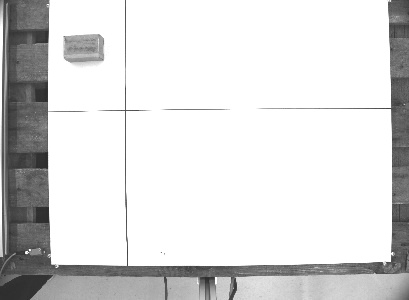b1: (60, 32, 107, 64)
